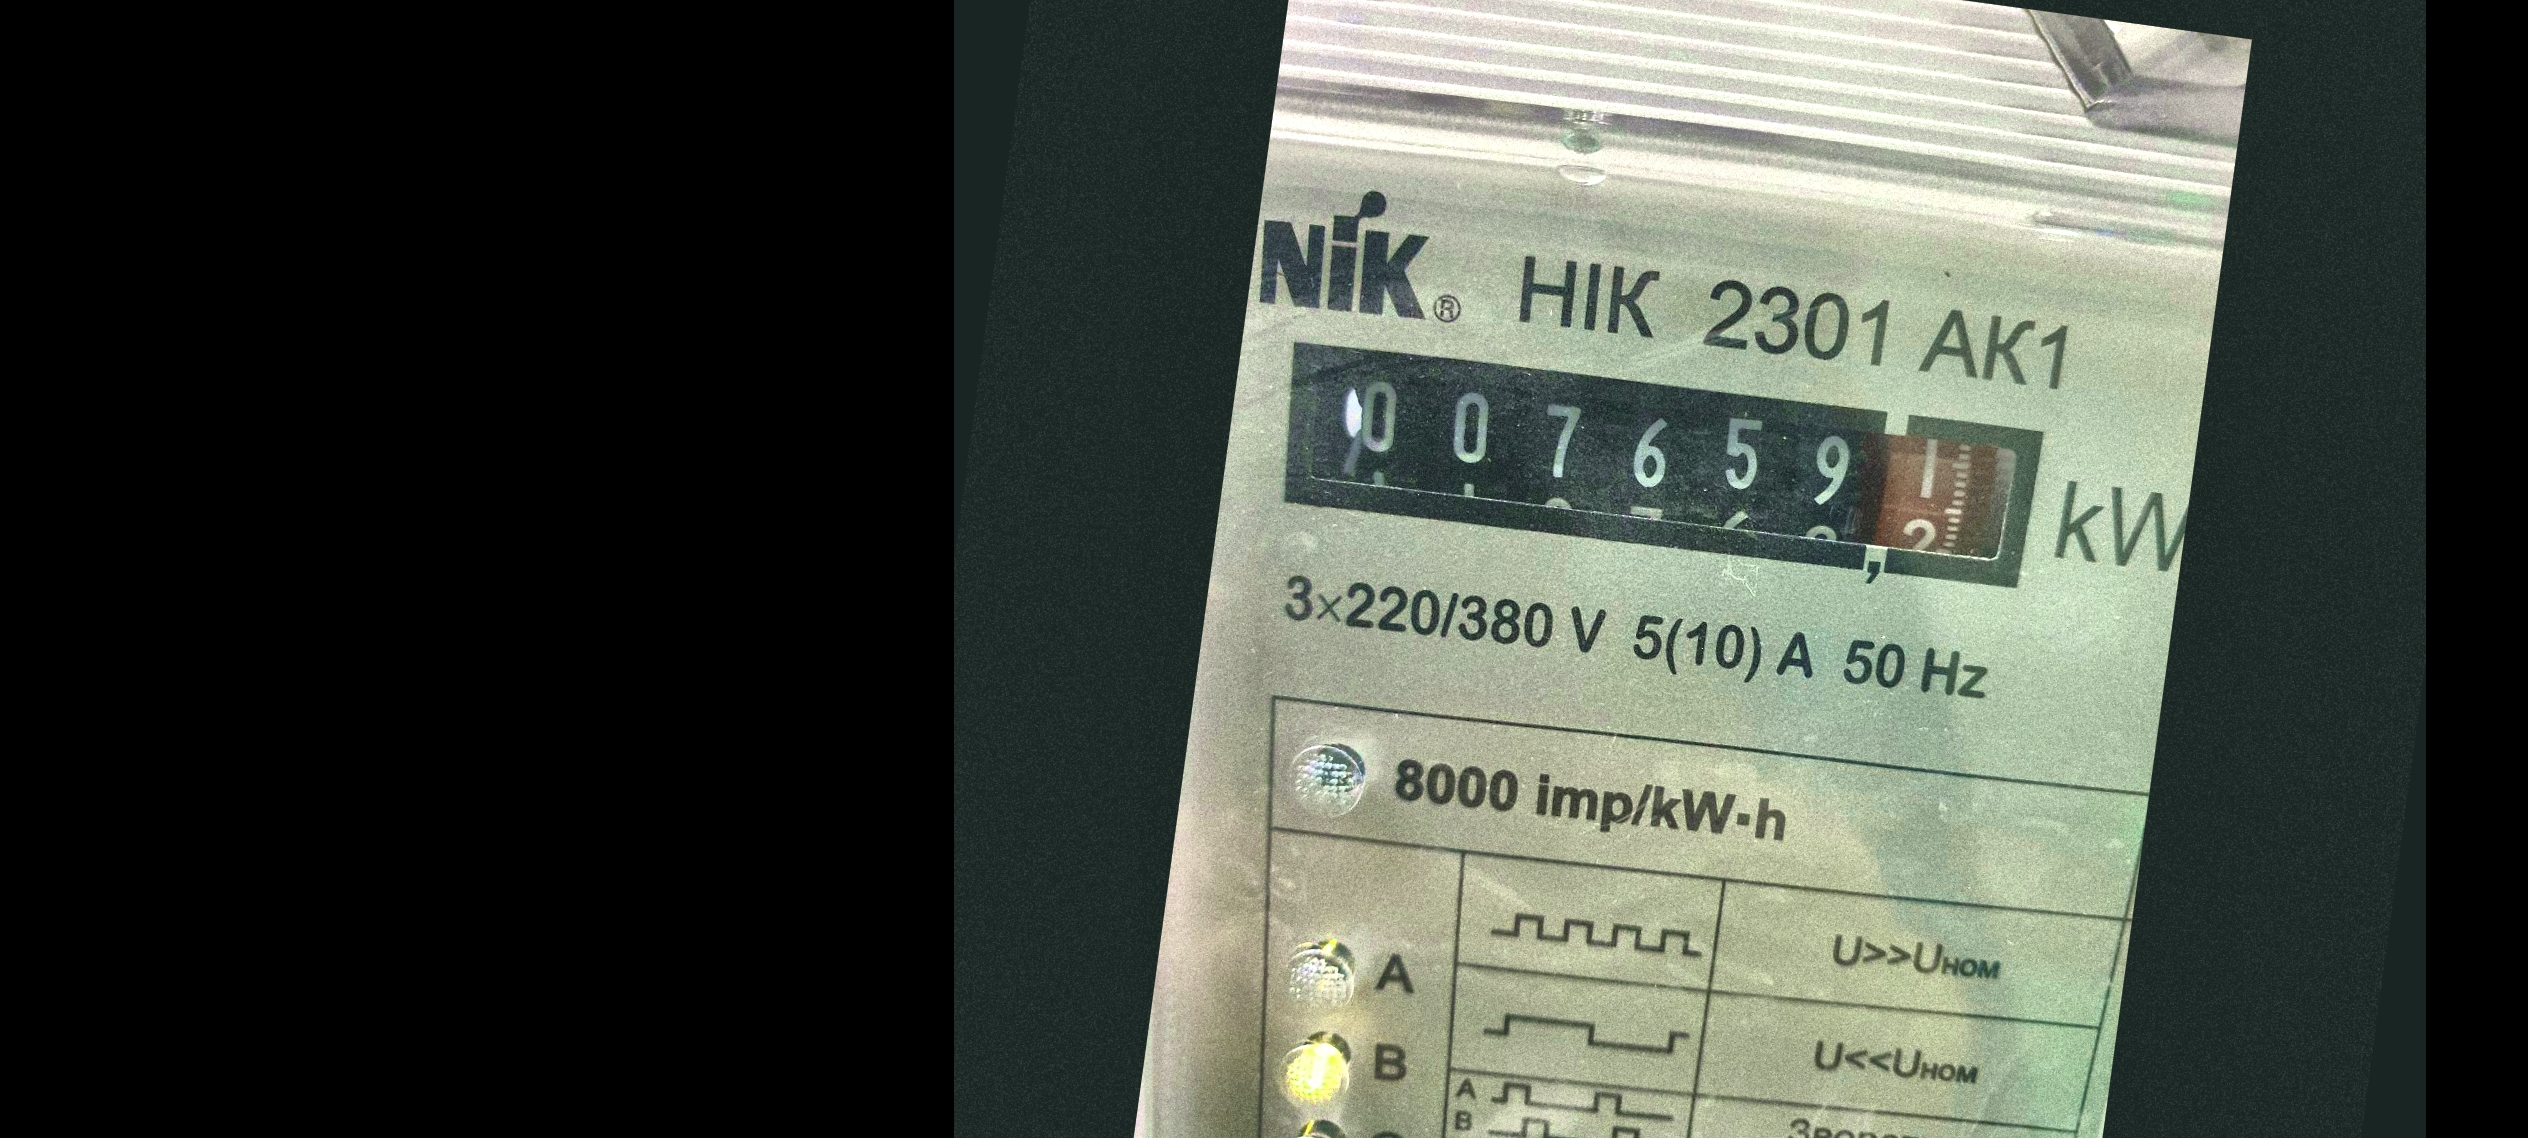0: (1437, 379, 1503, 472), (1348, 368, 1411, 464)
1: (1909, 429, 1952, 508)
5: (1712, 409, 1769, 496)
6: (1619, 405, 1682, 493)
7: (1533, 395, 1586, 485)
9: (1804, 424, 1857, 517)
screen: (1251, 306, 2065, 625)
